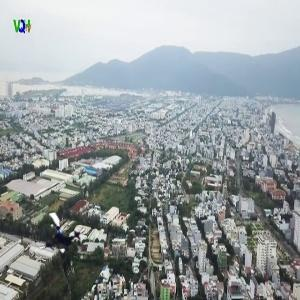drone: (32, 207, 87, 262)
